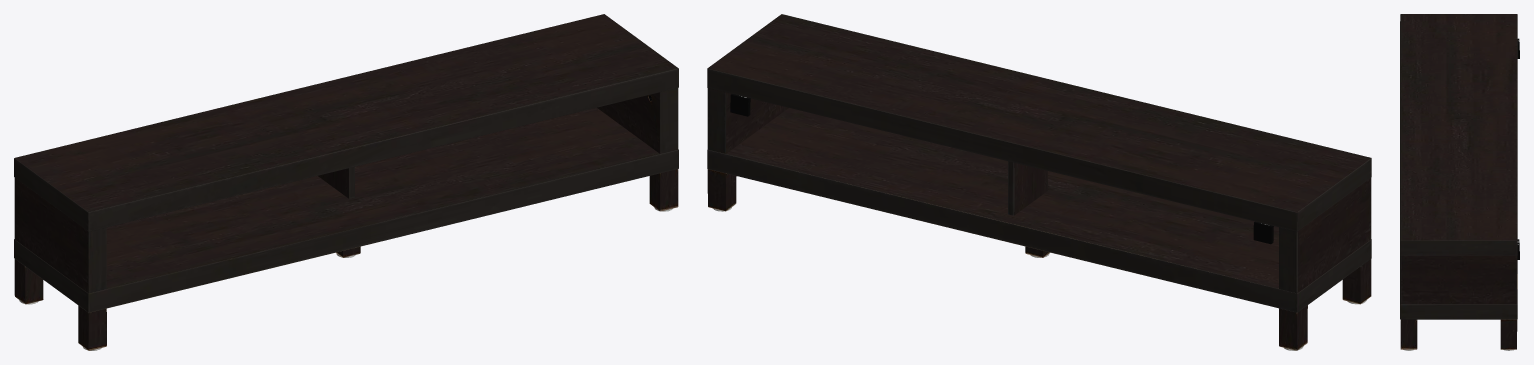
The picture shows the model from 3 angles, left to right: view 1: azimuth 30°, elevation 25°; view 2: azimuth 150°, elevation 25°; view 3: azimuth 270°, elevation 25°; orthographic projection. The views are drawn at different scales.
Visible parts, largest first — view 1: model; view 2: model; view 3: model.
Boxes of the visible parts, <box> form: model: <box>14,14,678,350</box>; model: <box>707,14,1371,350</box>; model: <box>1400,14,1519,350</box>.
Bounding box in the file's own units: 1.6 × 0.3658 × 0.3573.
1 material, 1 textured.
